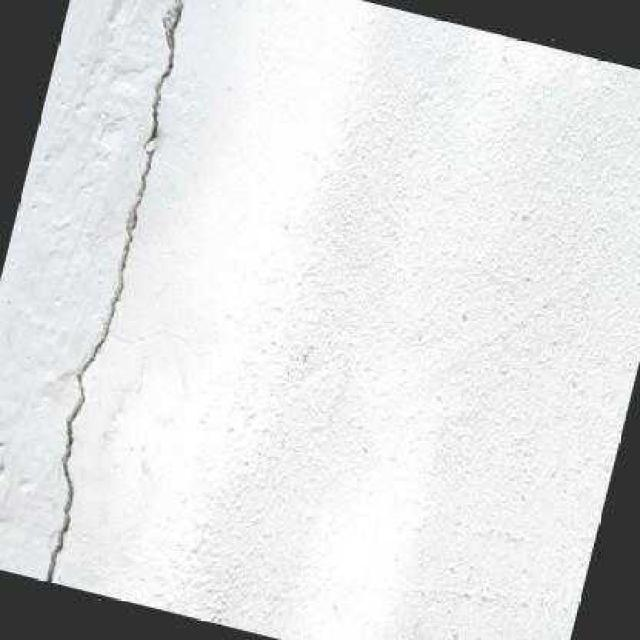D00: (41, 0, 189, 583)
